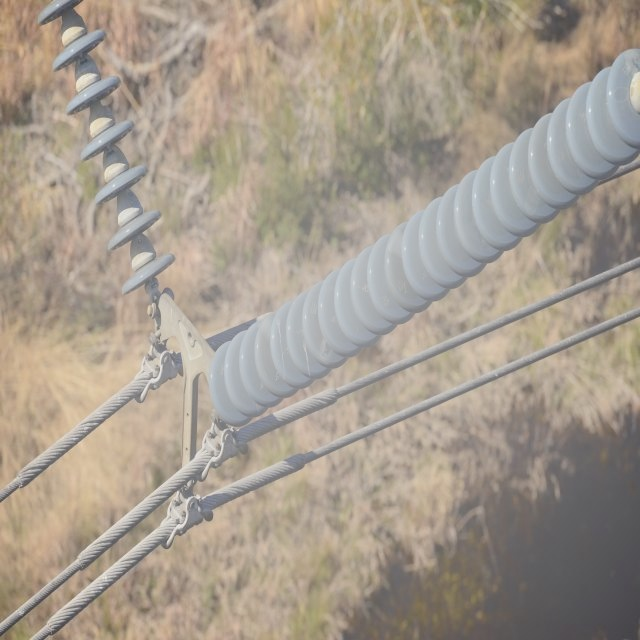insulator: (208, 48, 640, 425), (36, 0, 174, 296)
